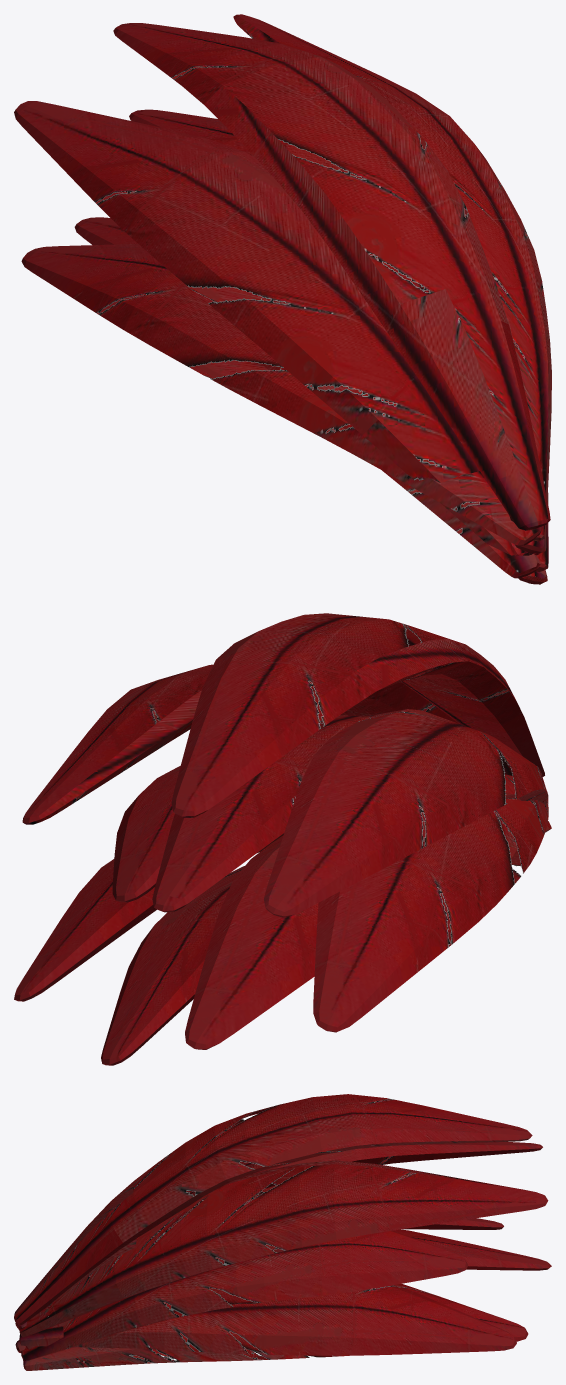
File: Chicken_Tail.fbx
The picture shows the model from 3 angles, top to bottom: view 1: azimuth 30°, elevation 25°; view 2: azimuth 150°, elevation 25°; view 3: azimuth 270°, elevation 25°; orthographic projection. The views are drawn at different scales.
Visible parts, largest first — view 1: Chicken_Tail_Melee; view 2: Chicken_Tail_Melee; view 3: Chicken_Tail_Melee.
Part boxes in pixels (x1,y1,x2,y2): Chicken_Tail_Melee: (14,14,551,584); Chicken_Tail_Melee: (14,613,551,1065); Chicken_Tail_Melee: (14,1094,551,1370).
Bounding box in the file's own units: 88.19 × 86.03 × 168.
